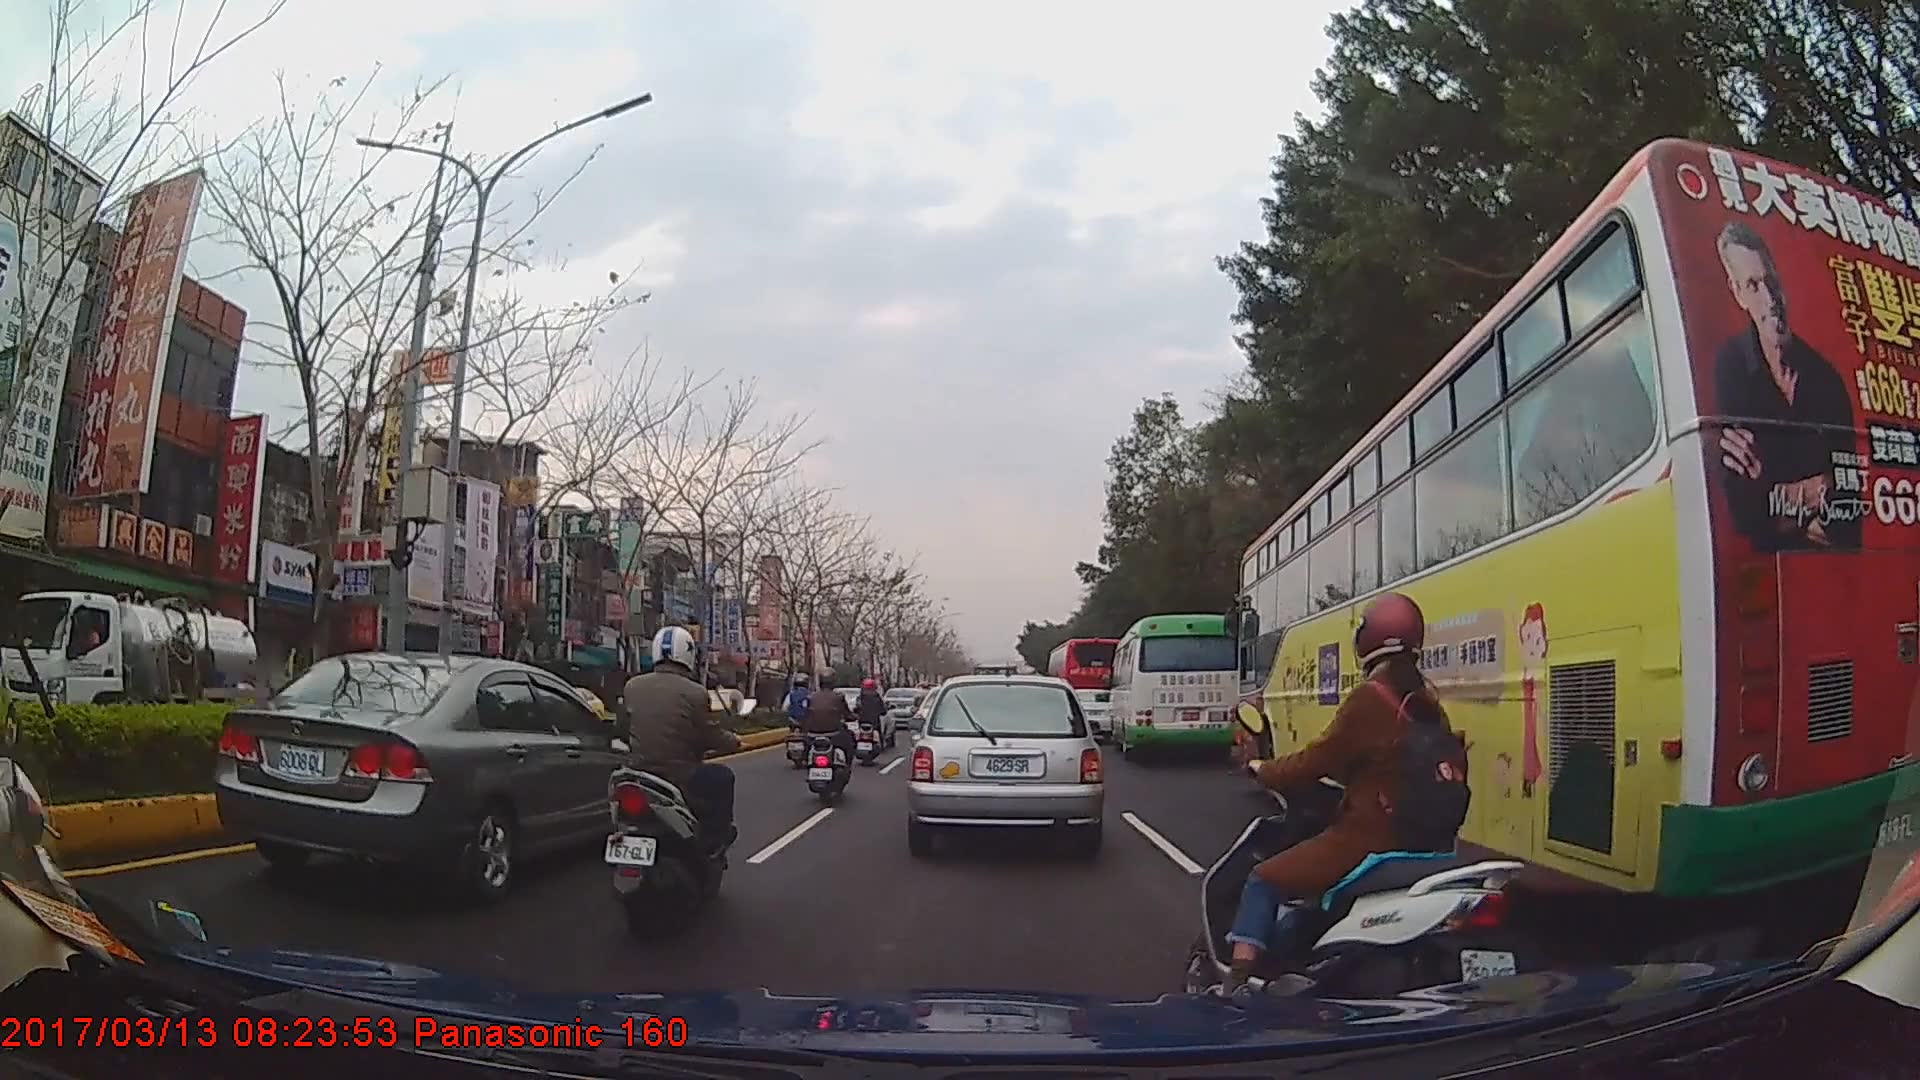rider: (1196, 593, 1513, 1034), (604, 623, 755, 933), (804, 668, 850, 803), (779, 671, 820, 751), (850, 676, 886, 769)
vehicle: (1234, 135, 1918, 913), (211, 651, 650, 900), (0, 590, 256, 750), (907, 671, 1102, 852), (1105, 612, 1241, 763), (1043, 635, 1126, 733), (681, 682, 745, 727)
